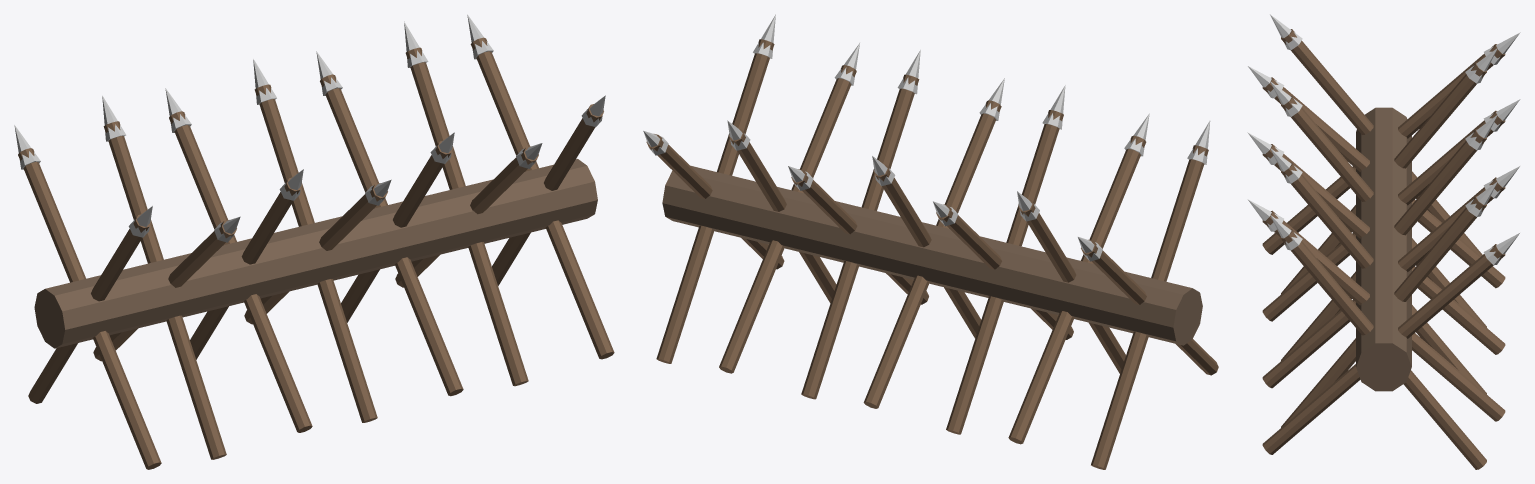
Rendered from barricade_stakes.glb.
3 views of the same model, side by side, from view 1: azimuth 30°, elevation 25°; view 2: azimuth 150°, elevation 25°; view 3: azimuth 270°, elevation 25° (orthographic). The views are drawn at different scales.
Parts seen in each view (by area): view 1: barricade_stakes; view 2: barricade_stakes; view 3: barricade_stakes.
Part boxes in pixels (left/top/right/bottom): barricade_stakes: left=14, top=14, right=614, bottom=469; barricade_stakes: left=643, top=14, right=1218, bottom=469; barricade_stakes: left=1247, top=14, right=1520, bottom=469.
Size of the model in its own units: 4 by 2.02 by 1.96.
